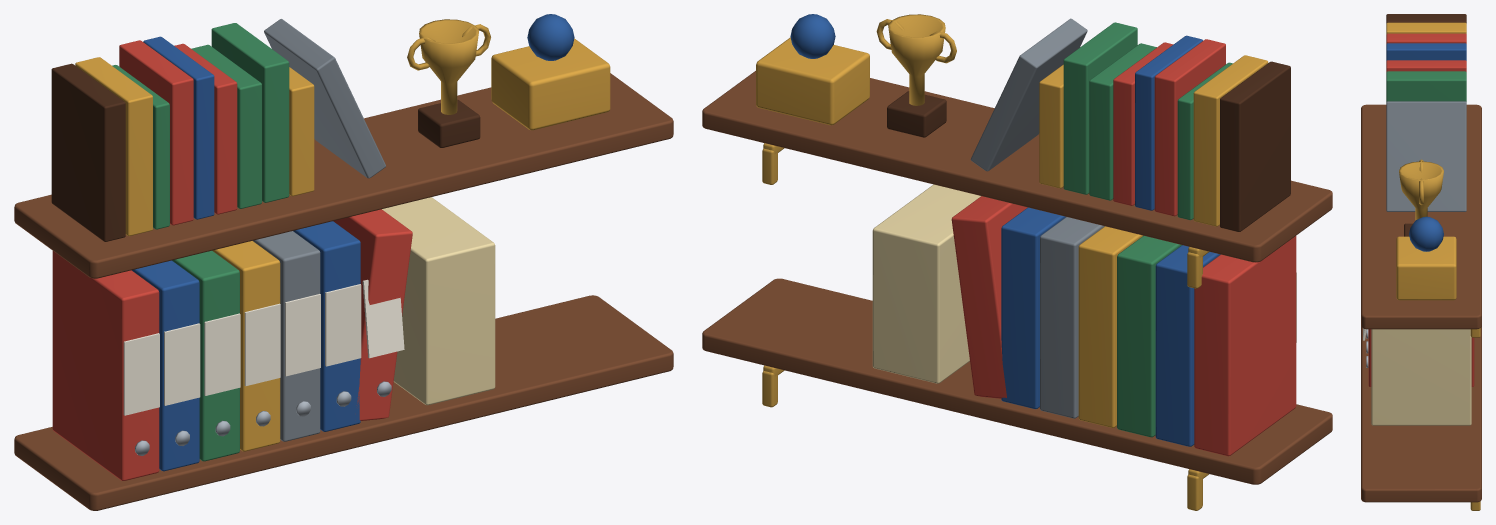
File: RmShelf.fbx
The picture shows the model from 3 angles, left to right: view 1: azimuth 30°, elevation 25°; view 2: azimuth 150°, elevation 25°; view 3: azimuth 270°, elevation 25°; orthographic projection. The views are drawn at different scales.
Visible parts, largest first — view 1: RmShelfBody; view 2: RmShelfBody; view 3: RmShelfBody.
Part boxes in pixels (bbox=[...]): RmShelfBody: bbox=[14, 14, 673, 510]; RmShelfBody: bbox=[702, 14, 1332, 510]; RmShelfBody: bbox=[1361, 14, 1481, 510].
Size of the model in its own units: 1 by 0.7131 by 0.24.
